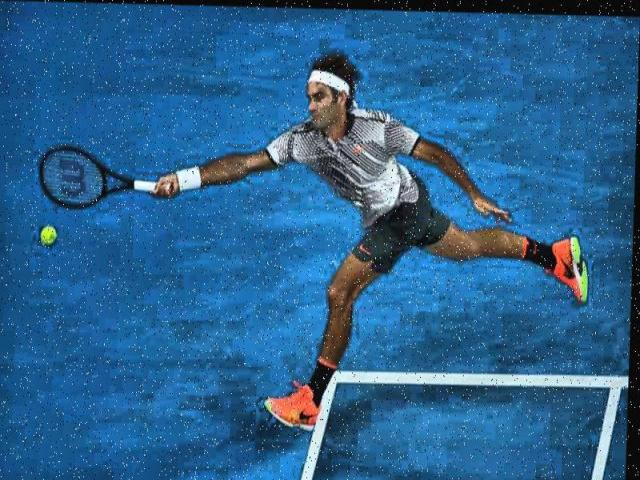tennis-ball: (39, 226, 58, 247)
